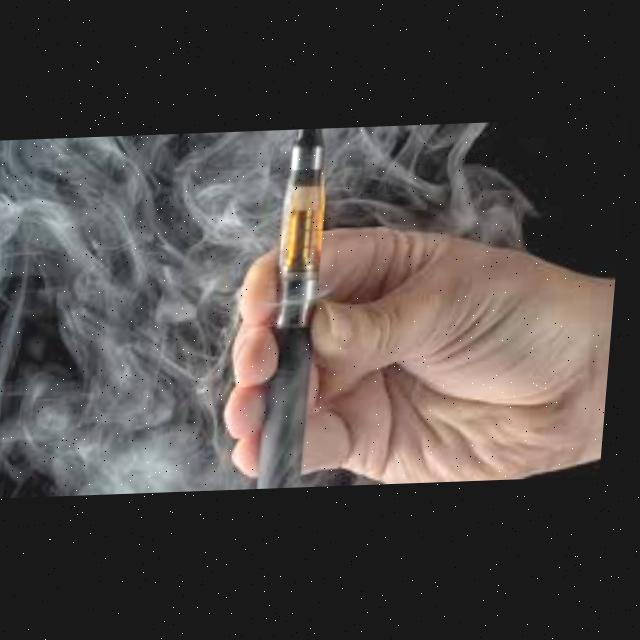vape: (267, 131, 334, 491)
